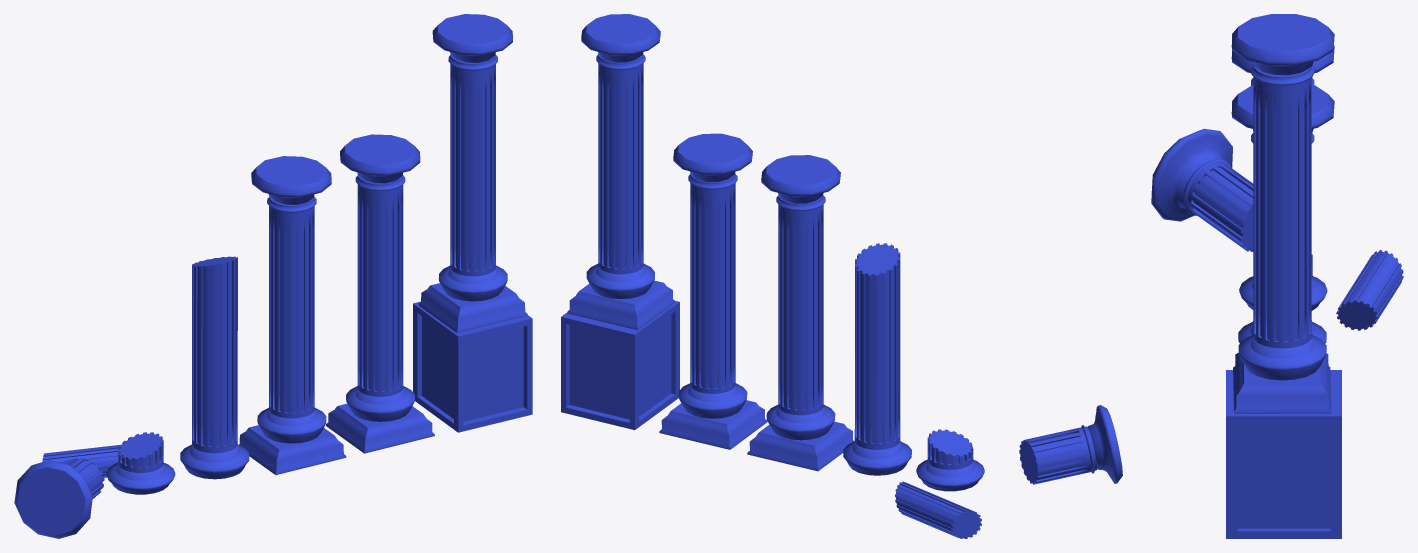
File: uvgroup04_unity.fbx
The picture shows the model from 3 angles, left to right: view 1: azimuth 30°, elevation 25°; view 2: azimuth 150°, elevation 25°; view 3: azimuth 270°, elevation 25°; orthographic projection. The views are drawn at different scales.
Visible parts, largest first — view 1: Temple_Pilliar01_low, Temple_Pilliar02_low, Temple_Pilliar03_low, Temple_Pilliar04_low, Temple_Pilliar06_low, Temple_Pilliar05_low, Temple_Pilliar07_low; view 2: Temple_Pilliar01_low, Temple_Pilliar02_low, Temple_Pilliar03_low, Temple_Pilliar04_low, Temple_Pilliar06_low, Temple_Pilliar05_low, Temple_Pilliar07_low; view 3: Temple_Pilliar01_low, Temple_Pilliar06_low, Temple_Pilliar07_low, Temple_Pilliar02_low, Temple_Pilliar05_low, Temple_Pilliar03_low, Temple_Pilliar04_low.
Part boxes in pixels (<box>): Temple_Pilliar01_low: <box>413,14,532,432</box>; Temple_Pilliar02_low: <box>326,134,434,453</box>; Temple_Pilliar03_low: <box>239,156,346,474</box>; Temple_Pilliar04_low: <box>180,256,249,479</box>; Temple_Pilliar06_low: <box>14,458,104,538</box>; Temple_Pilliar05_low: <box>106,432,175,494</box>; Temple_Pilliar07_low: <box>42,444,121,477</box>; Temple_Pilliar01_low: <box>561,14,679,430</box>; Temple_Pilliar02_low: <box>659,133,767,449</box>; Temple_Pilliar03_low: <box>747,155,854,471</box>; Temple_Pilliar04_low: <box>843,243,911,475</box>; Temple_Pilliar06_low: <box>1019,405,1122,484</box>; Temple_Pilliar05_low: <box>916,429,984,491</box>; Temple_Pilliar07_low: <box>895,481,981,538</box>; Temple_Pilliar01_low: <box>1226,14,1341,538</box>; Temple_Pilliar06_low: <box>1151,128,1253,251</box>; Temple_Pilliar07_low: <box>1336,250,1403,330</box>; Temple_Pilliar02_low: <box>1231,84,1334,143</box>; Temple_Pilliar05_low: <box>1239,254,1327,310</box>; Temple_Pilliar03_low: <box>1231,45,1334,85</box>; Temple_Pilliar04_low: <box>1238,129,1326,343</box>.
Bounding box in the file's own units: 6692 × 4806 × 2209.
